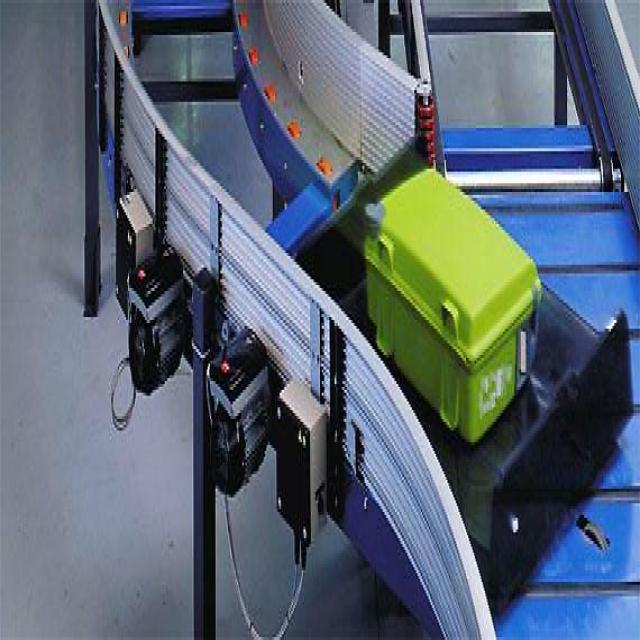Convoyeur: (90, 4, 432, 640), (410, 0, 640, 640)
